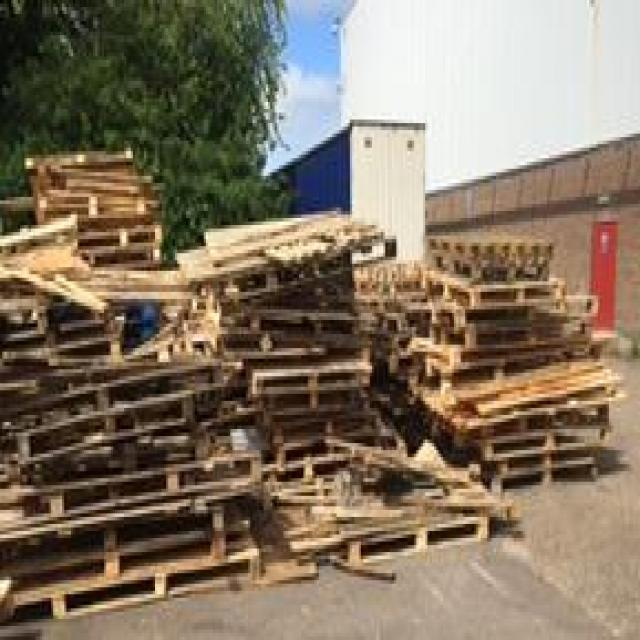green waste: (0, 131, 625, 632)
